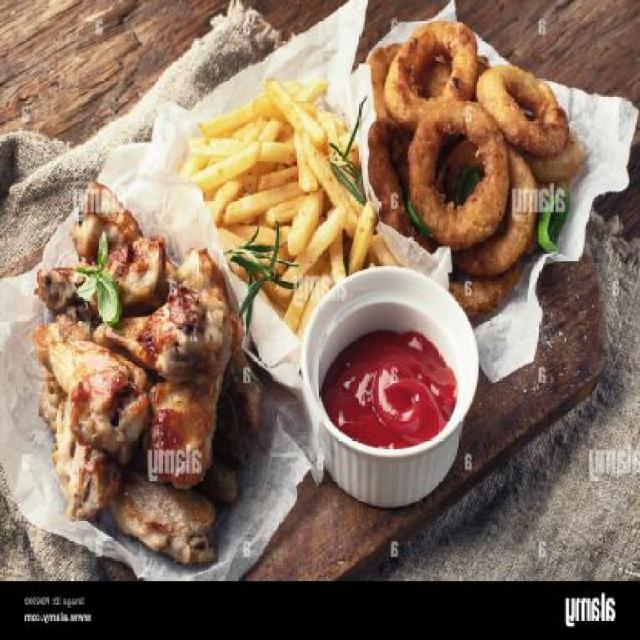chicken wings: (30, 180, 250, 562)
french fries: (188, 62, 368, 330)
onion rings: (366, 21, 582, 322)
